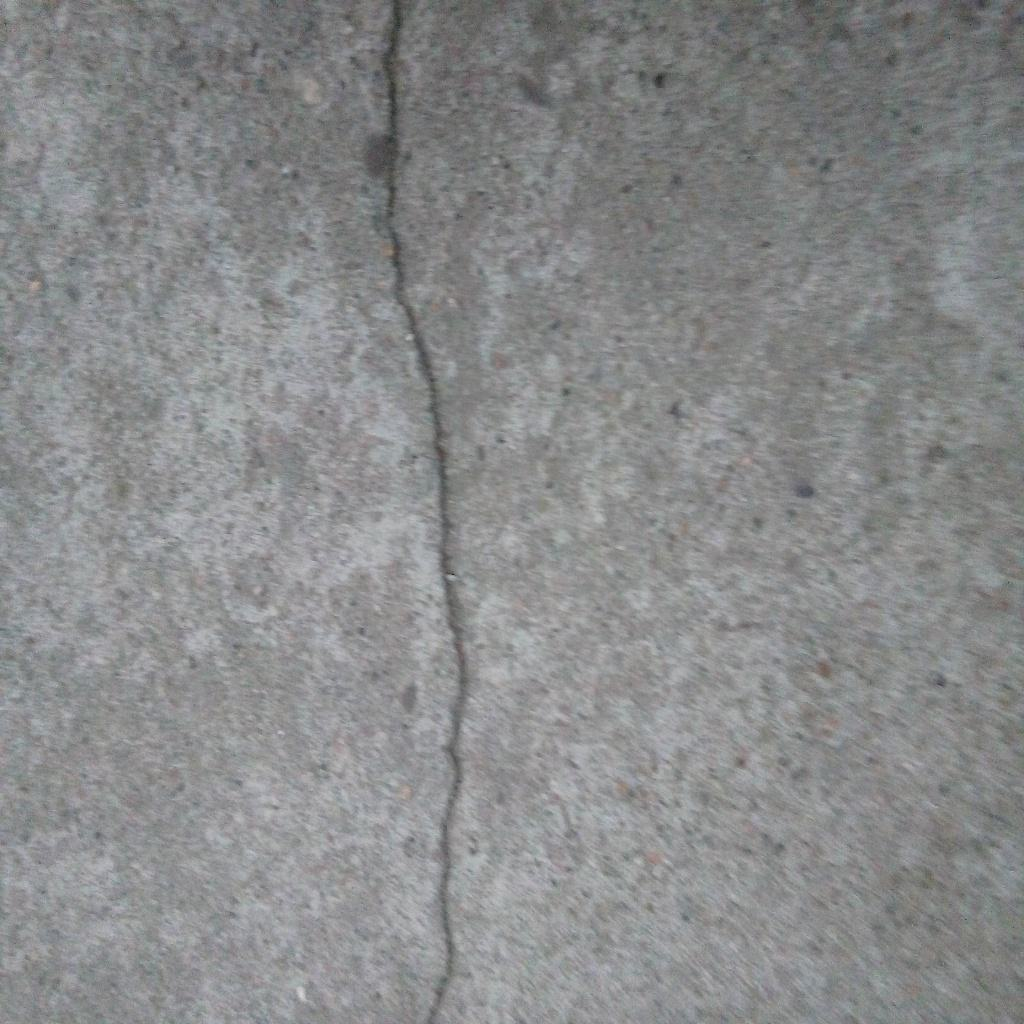Crack: (379, 1, 471, 1024)
